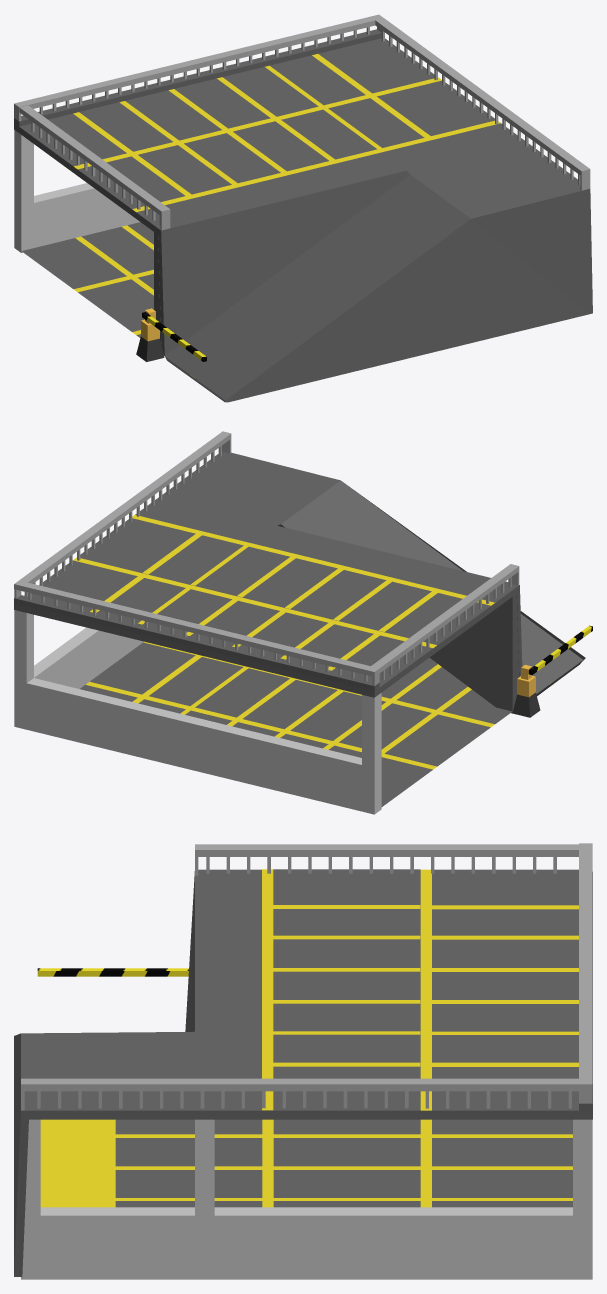
Rendered from Car Park-1.fbx.
3 renders of one model, top to bottom at view 1: azimuth 30°, elevation 25°; view 2: azimuth 150°, elevation 25°; view 3: azimuth 270°, elevation 25°, orthographic. The views are drawn at different scales.
Visible parts, largest first — view 1: Cube.005, Cube.002, Cube.001; view 2: Cube.005, Cube.002, Cube.001; view 3: Cube.005, Cube.001.
Boxes of the visible parts, x1=… form: Cube.005: x1=14, y1=14, x2=592, y2=402; Cube.002: x1=136, y1=308, x2=164, y2=361; Cube.001: x1=142, y1=312, x2=206, y2=361; Cube.005: x1=14, y1=431, x2=585, y2=814; Cube.002: x1=512, y1=665, x2=540, y2=717; Cube.001: x1=528, y1=625, x2=592, y2=674; Cube.005: x1=14, y1=843, x2=592, y2=1279; Cube.001: x1=37, y1=968, x2=188, y2=976.
Bounding box in the file's own units: 2927 × 1077 × 2834.
